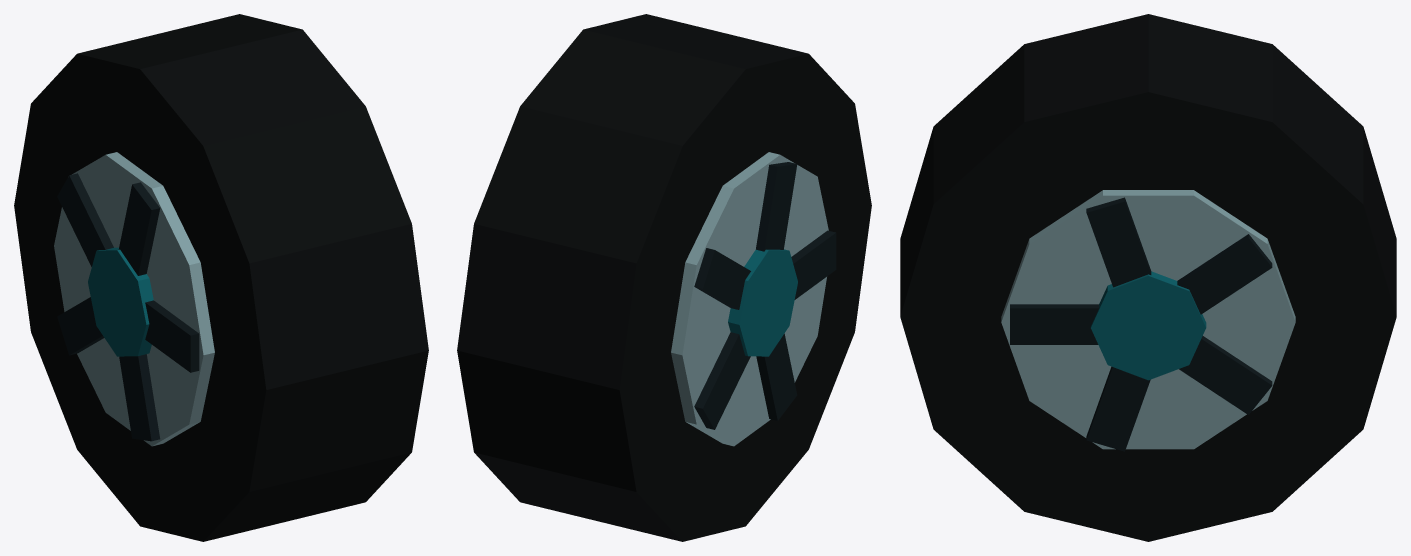
File: wheel.glb
3 renders of one model, left to right at view 1: azimuth 30°, elevation 25°; view 2: azimuth 150°, elevation 25°; view 3: azimuth 270°, elevation 25°, orthographic.
Parts seen in each view (by area): view 1: Tire, Alloy rim, Center cap, Spoke.001, Spoke.004, Spoke, Spoke.002, Spoke.003; view 2: Tire, Alloy rim, Center cap, Spoke.003, Spoke.001, Spoke.002, Spoke.004, Spoke; view 3: Tire, Alloy rim.001, Center cap.001, Spoke.007, Spoke.005, Spoke.006, Spoke.008, Spoke.009.
Part boxes in pixels (<box>): Tire: <box>14,14,428,541</box>; Alloy rim: <box>54,152,214,446</box>; Center cap: <box>88,247,153,356</box>; Spoke.001: <box>118,182,160,275</box>; Spoke.004: <box>119,354,160,441</box>; Spoke: <box>145,300,199,372</box>; Spoke.002: <box>57,173,113,266</box>; Spoke.003: <box>57,297,104,355</box>; Tire: <box>457,14,871,541</box>; Alloy rim: <box>671,152,828,446</box>; Center cap: <box>728,249,797,356</box>; Spoke.003: <box>694,332,750,429</box>; Spoke.001: <box>756,162,797,251</box>; Spoke.002: <box>694,248,750,309</box>; Spoke.004: <box>756,333,797,420</box>; Spoke: <box>791,230,836,299</box>; Tire: <box>900,14,1396,541</box>; Alloy rim.001: <box>1001,190,1295,449</box>; Center cap.001: <box>1090,271,1206,380</box>; Spoke.007: <box>1177,234,1272,314</box>; Spoke.005: <box>1010,304,1098,344</box>; Spoke.006: <box>1086,197,1151,287</box>; Spoke.008: <box>1179,336,1272,414</box>; Spoke.009: <box>1086,366,1150,451</box>.
Bounding box in the file's own units: 0.4108 × 0.86 × 0.86.
